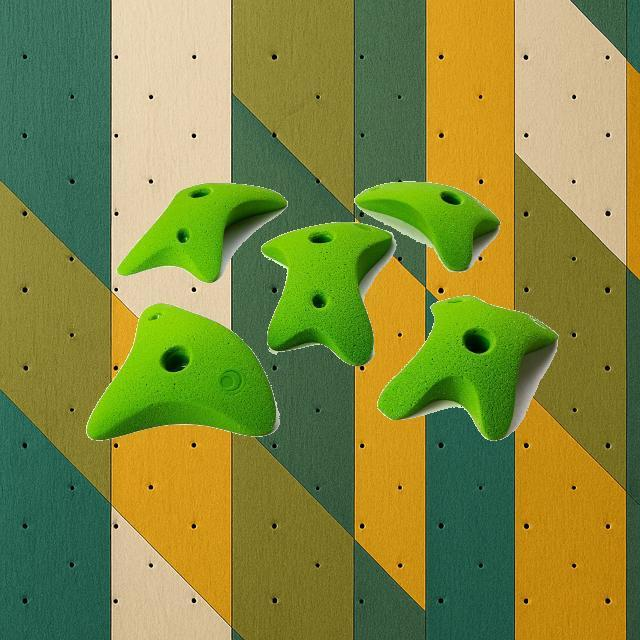Pinch: (84, 303, 278, 442), (377, 294, 558, 440), (259, 220, 391, 366), (115, 180, 287, 282), (355, 181, 499, 273)
